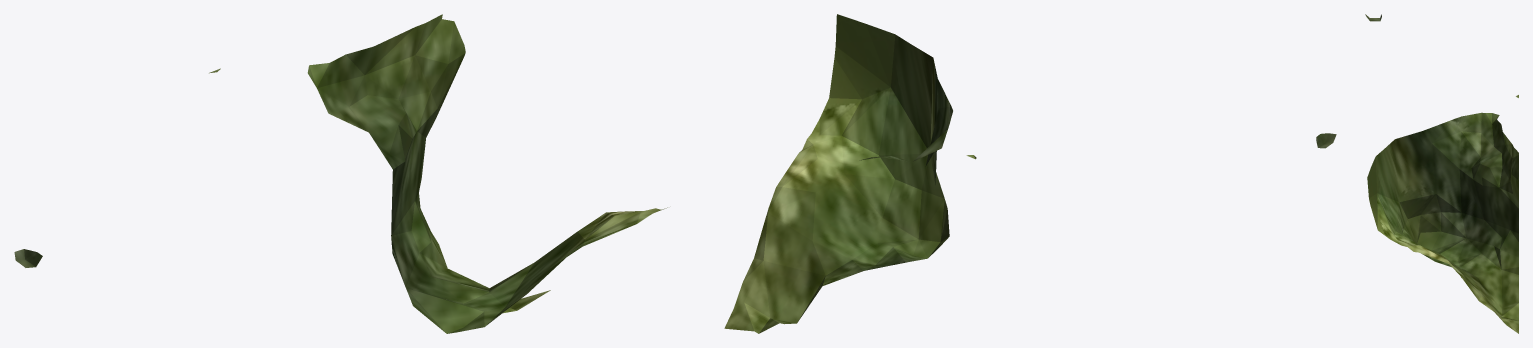
The picture shows the model from 3 angles, left to right: view 1: azimuth 30°, elevation 25°; view 2: azimuth 150°, elevation 25°; view 3: azimuth 270°, elevation 25°; orthographic projection. The views are drawn at different scales.
Bounding box in the file's own units: 2.95 × 1.31 × 1.17.
1 material, 1 textured.
